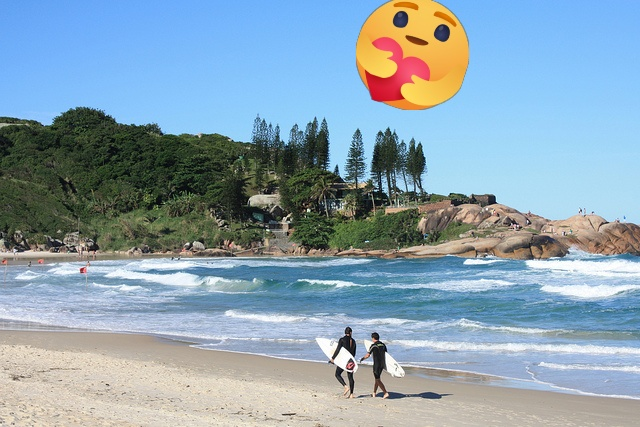care: (356, 0, 469, 110)
